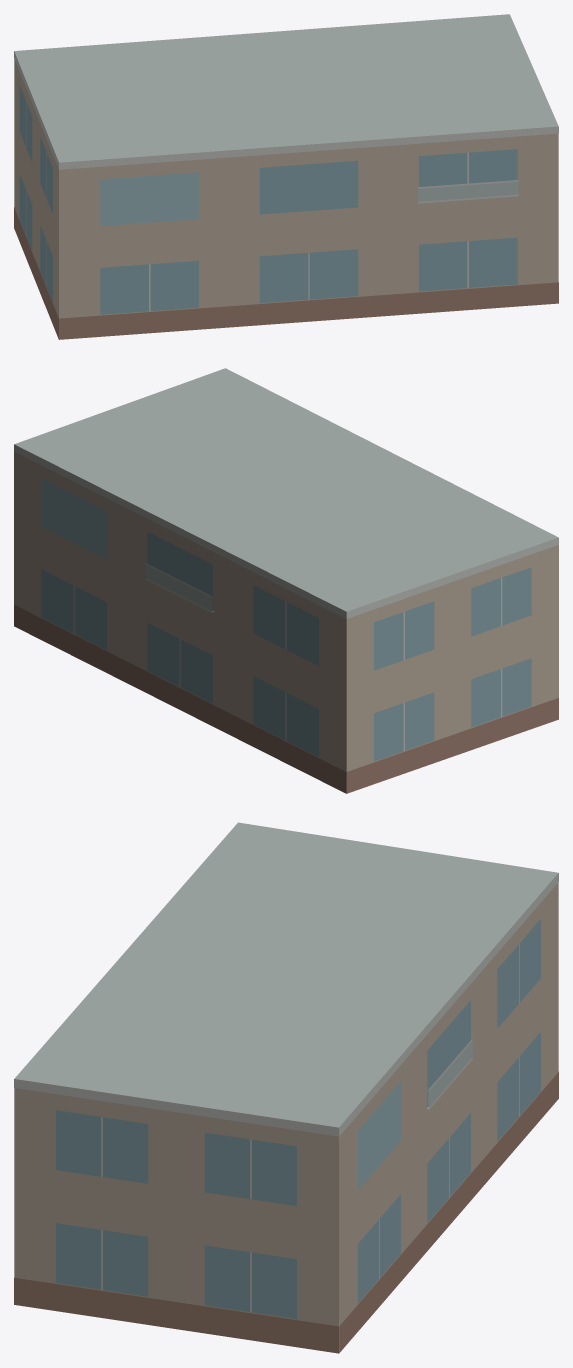
Rendered from survey-upis-32884265.glb.
3 views of the same model, one above another, from view 1: azimuth 30°, elevation 25°; view 2: azimuth 150°, elevation 25°; view 3: azimuth 270°, elevation 25° (orthographic). The views are drawn at different scales.
Parts seen in each view (by area): view 1: survey-upis-32884265.tmp; view 2: survey-upis-32884265.tmp; view 3: survey-upis-32884265.tmp.
Boxes of the visible parts, x1,y1,x2,y2 form: survey-upis-32884265.tmp: [14, 14, 558, 339]; survey-upis-32884265.tmp: [14, 368, 558, 793]; survey-upis-32884265.tmp: [14, 822, 558, 1353].
Size of the model in its own units: 17.69 by 6.1 by 13.34.
